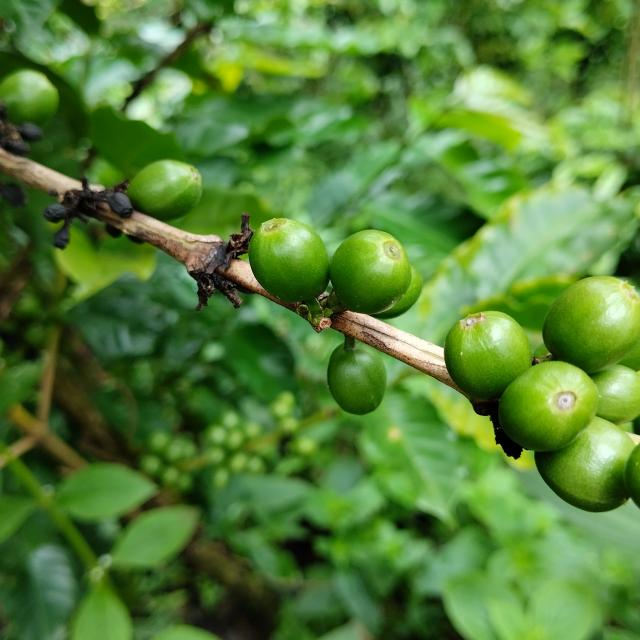green: (536, 417, 636, 513), (543, 276, 640, 374), (499, 361, 600, 452), (445, 311, 533, 401), (330, 229, 412, 314), (249, 218, 330, 302), (126, 159, 202, 221), (328, 336, 387, 415), (0, 68, 58, 125), (591, 365, 640, 425), (372, 265, 423, 319), (625, 444, 640, 508)
